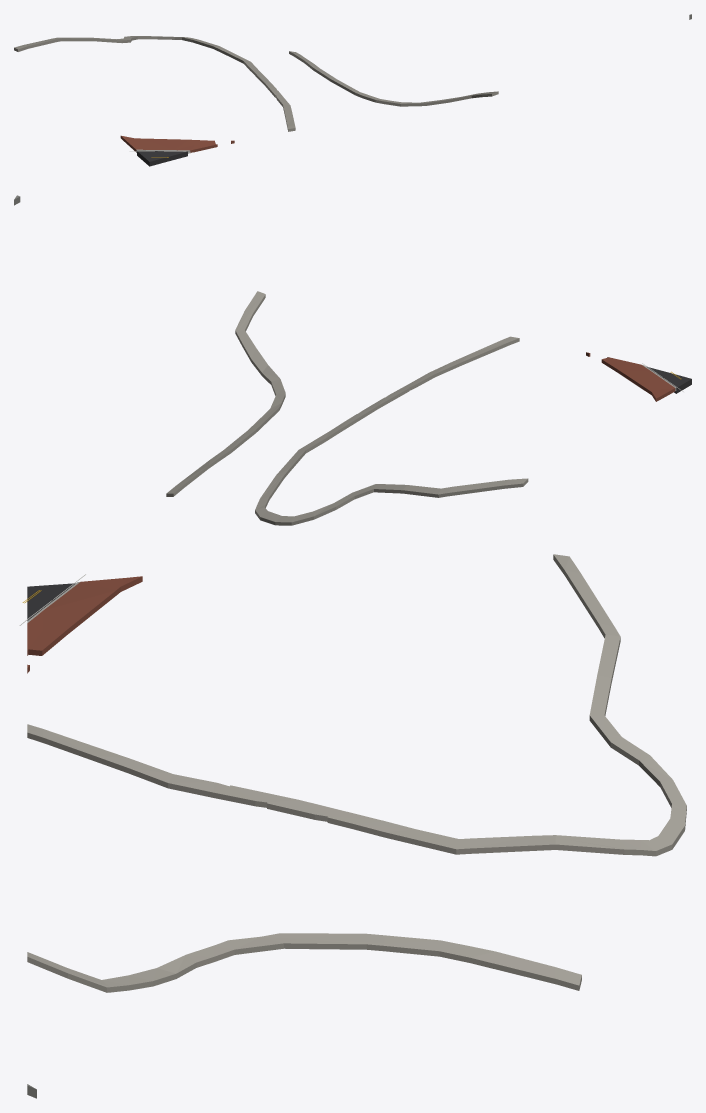
3 views of the same model, one above another, from view 1: azimuth 30°, elevation 25°; view 2: azimuth 150°, elevation 25°; view 3: azimuth 270°, elevation 25° (orthographic). The views are drawn at different scales.
Bounding box in the file's own units: 149 × 20.57 × 78.19.
